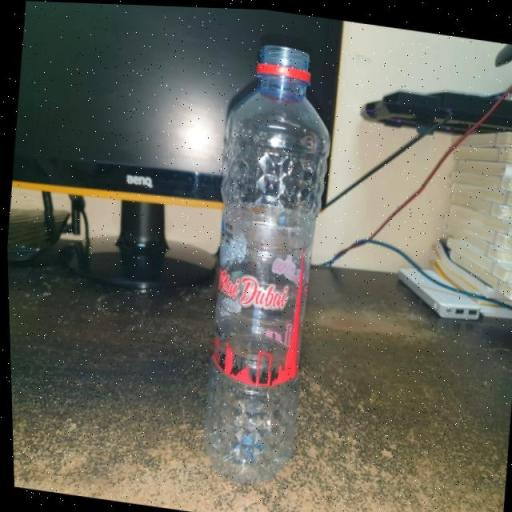plastic: (174, 32, 350, 494)
